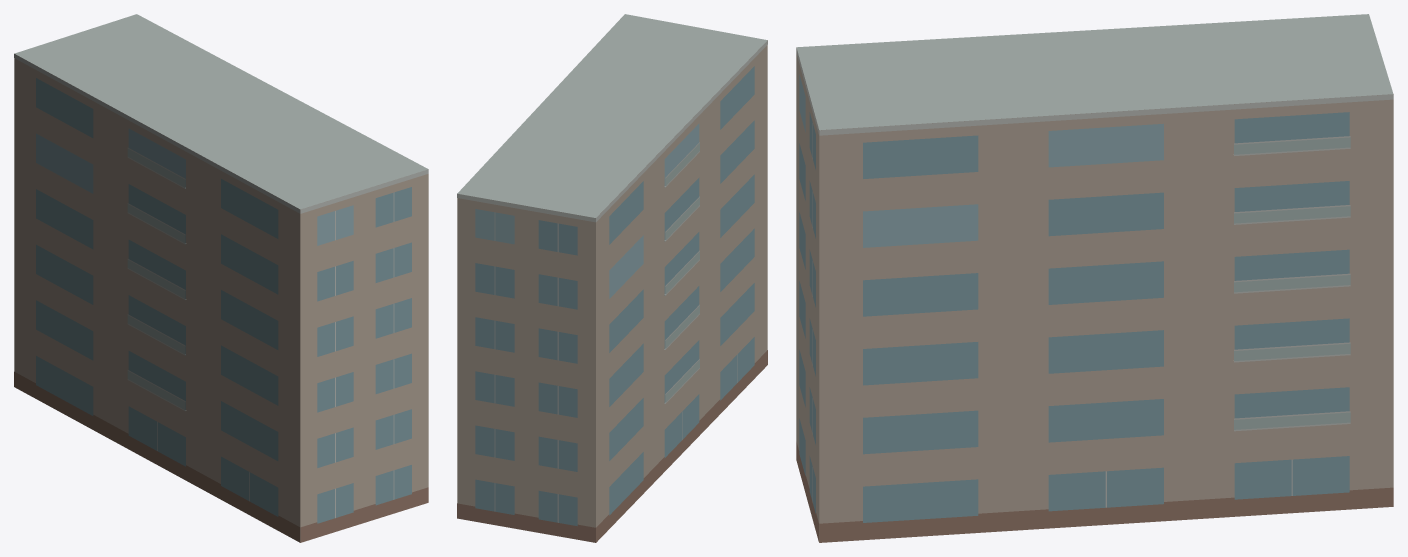
The model's file is survey-upis-32926175.glb.
The picture shows the model from 3 angles, left to right: view 1: azimuth 30°, elevation 25°; view 2: azimuth 150°, elevation 25°; view 3: azimuth 270°, elevation 25°; orthographic projection. The views are drawn at different scales.
Visible parts, largest first — view 1: survey-upis-32926175.tmp; view 2: survey-upis-32926175.tmp; view 3: survey-upis-32926175.tmp.
Boxes of the visible parts, x1=… form: survey-upis-32926175.tmp: x1=14, y1=14, x2=428, y2=542; survey-upis-32926175.tmp: x1=457, y1=14, x2=767, y2=542; survey-upis-32926175.tmp: x1=796, y1=14, x2=1393, y2=542.
Size of the model in its own units: 11.12 by 18.4 by 24.14.
